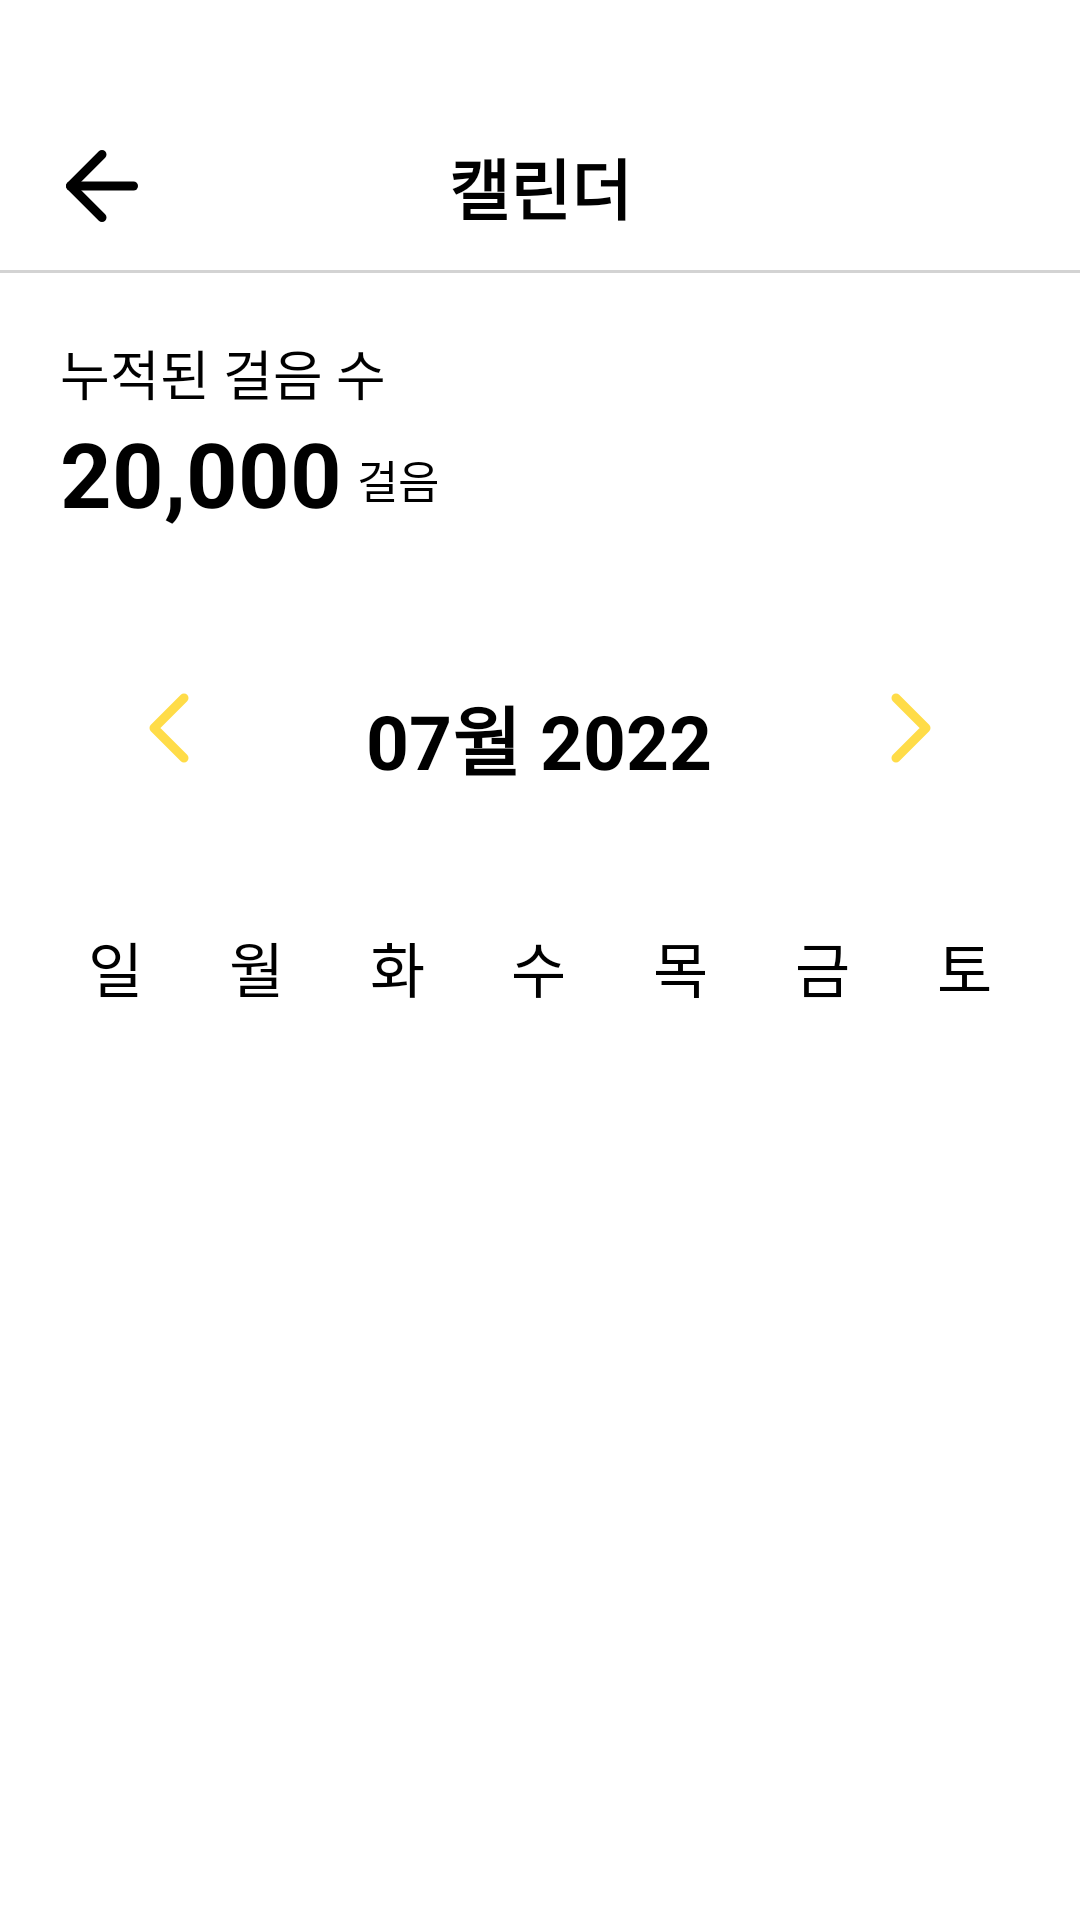

Point at icon controls on the screen. Image size 1080px x 1920px, points as [x,y].
back: [102,186]
left: [169,728]
right: [911,728]
